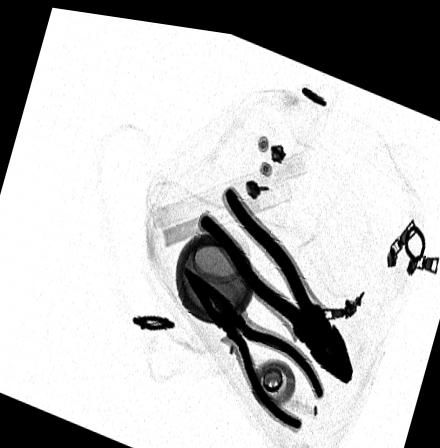Pliers: (196, 178, 357, 375), (181, 256, 328, 425)
